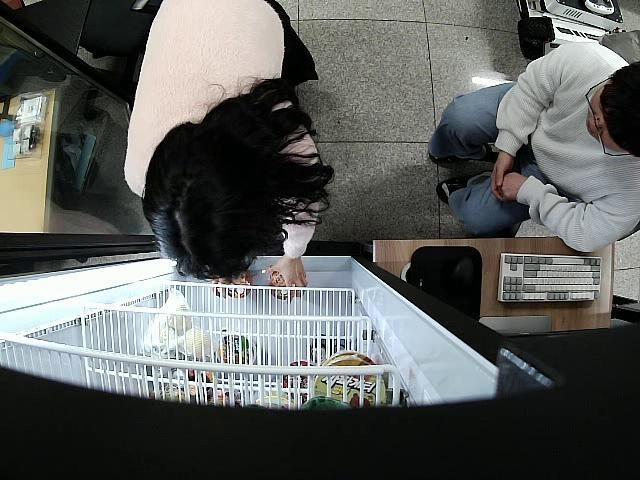06_nuguri_S: (269, 270, 297, 300)
